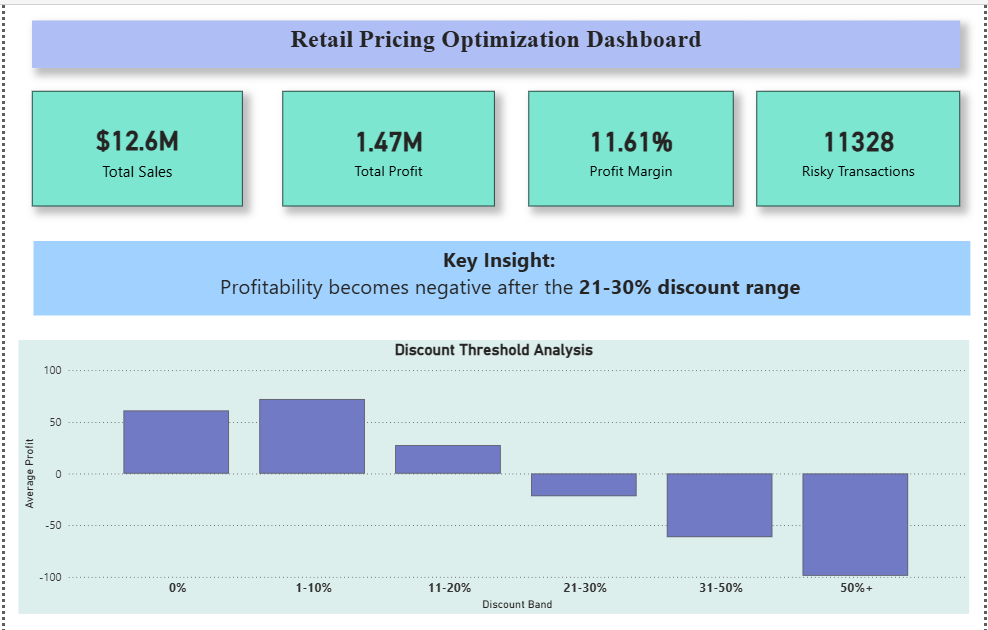

Layout of this report page (visuals, bound fields, positions):
{"tool":"powerbi","page":{"name":"Page 1","canvas":[1280,900],"ordinal":0},"visuals":[{"type":"card","fields":{"Values":["1transaction.Total Sales"]},"box":[35.9,156.6,275.5,151],"z":0},{"type":"card","fields":{"Values":["1transaction.Total Profit"]},"box":[362.3,156.6,277.4,151],"z":1000},{"type":"card","fields":{"Values":["1transaction.Profit Margin"]},"box":[685,156.6,268,151],"z":2000},{"type":"card","fields":{"Values":["1transaction.Risky Transactions"]},"box":[983.1,156.6,266.1,151],"z":3000},{"type":"clusteredColumnChart","title":"Discount Threshold Analysis","fields":{"Y":["1transaction.Average Profit"],"Category":["1transaction.Discount Band"]},"box":[18.2,481.7,1242.8,358.3],"z":4000},{"type":"textbox","box":[35.9,64.2,1213.3,62.3],"z":5000},{"type":"textbox","box":[36.4,352.2,1224.5,97.2],"z":6000}]}

Visuals, with their boxes on the page's 1280x900 design canvas (x1, y1, x2, y2). These are canvas units, not pixel positions in the 988x630 screenshot, which may show the page scaled, cropped or inside an application window:
card - 1transaction.Total Sales: Rect(36, 157, 311, 308)
card - 1transaction.Total Profit: Rect(362, 157, 640, 308)
card - 1transaction.Profit Margin: Rect(685, 157, 953, 308)
card - 1transaction.Risky Transactions: Rect(983, 157, 1249, 308)
"Discount Threshold Analysis" clusteredColumnChart: Rect(18, 482, 1261, 840)
textbox: Rect(36, 64, 1249, 126)
textbox: Rect(36, 352, 1261, 449)
